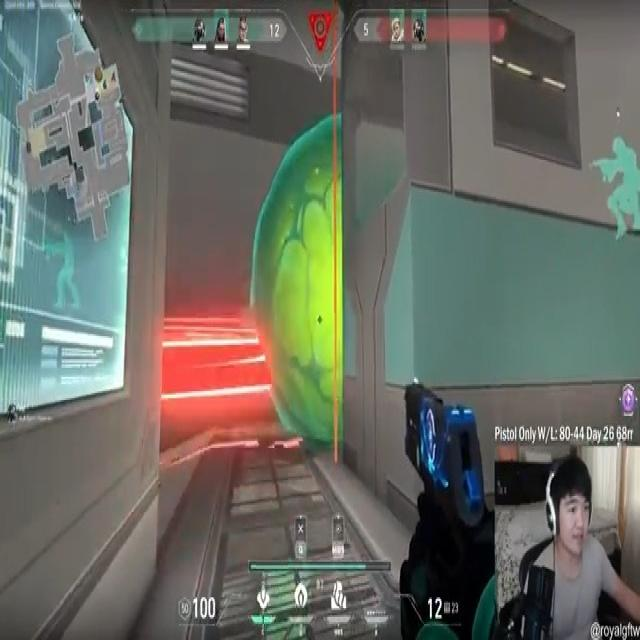ally behind wall: (594, 135, 640, 248)
